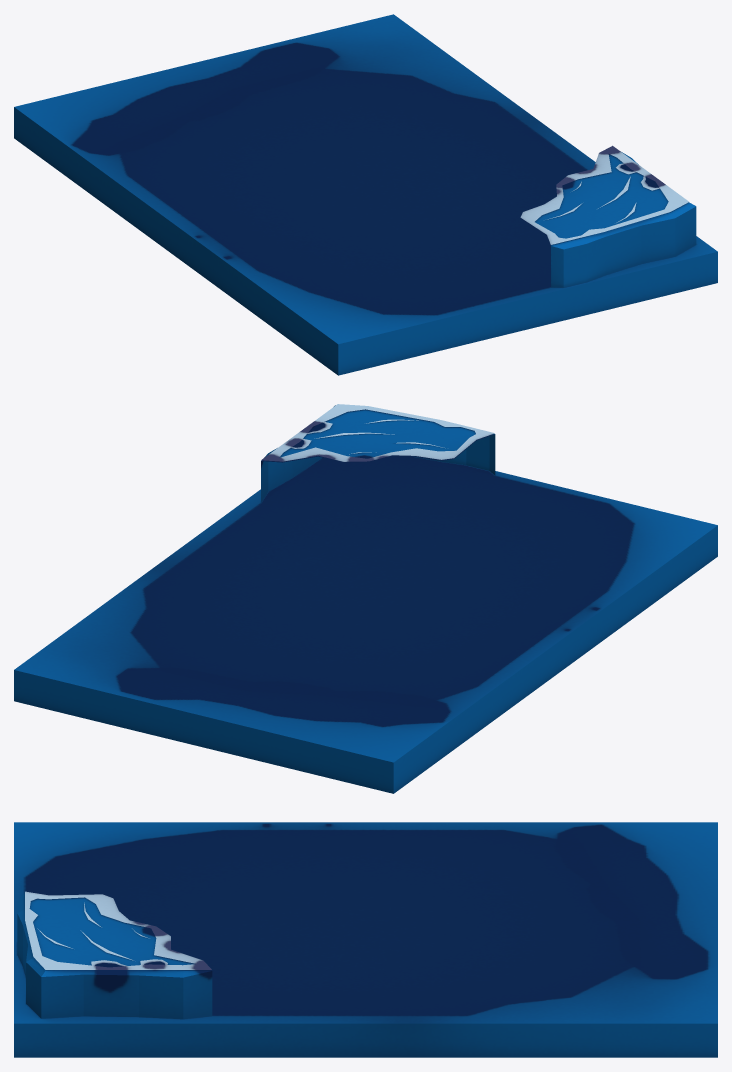
The model's file is Water_01.FBX.
The picture shows the model from 3 angles, top to bottom: view 1: azimuth 30°, elevation 25°; view 2: azimuth 150°, elevation 25°; view 3: azimuth 270°, elevation 25°; orthographic projection. The views are drawn at different scales.
Parts seen in each view (by area): view 1: Water_01; view 2: Water_01; view 3: Water_01.
Part boxes in pixels (x1=…): Water_01: x1=14, y1=14, x2=717, y2=375; Water_01: x1=14, y1=404, x2=717, y2=793; Water_01: x1=14, y1=822, x2=717, y2=1057.
Bounding box in the file's own units: 19.02 × 3.54 × 28.14.
